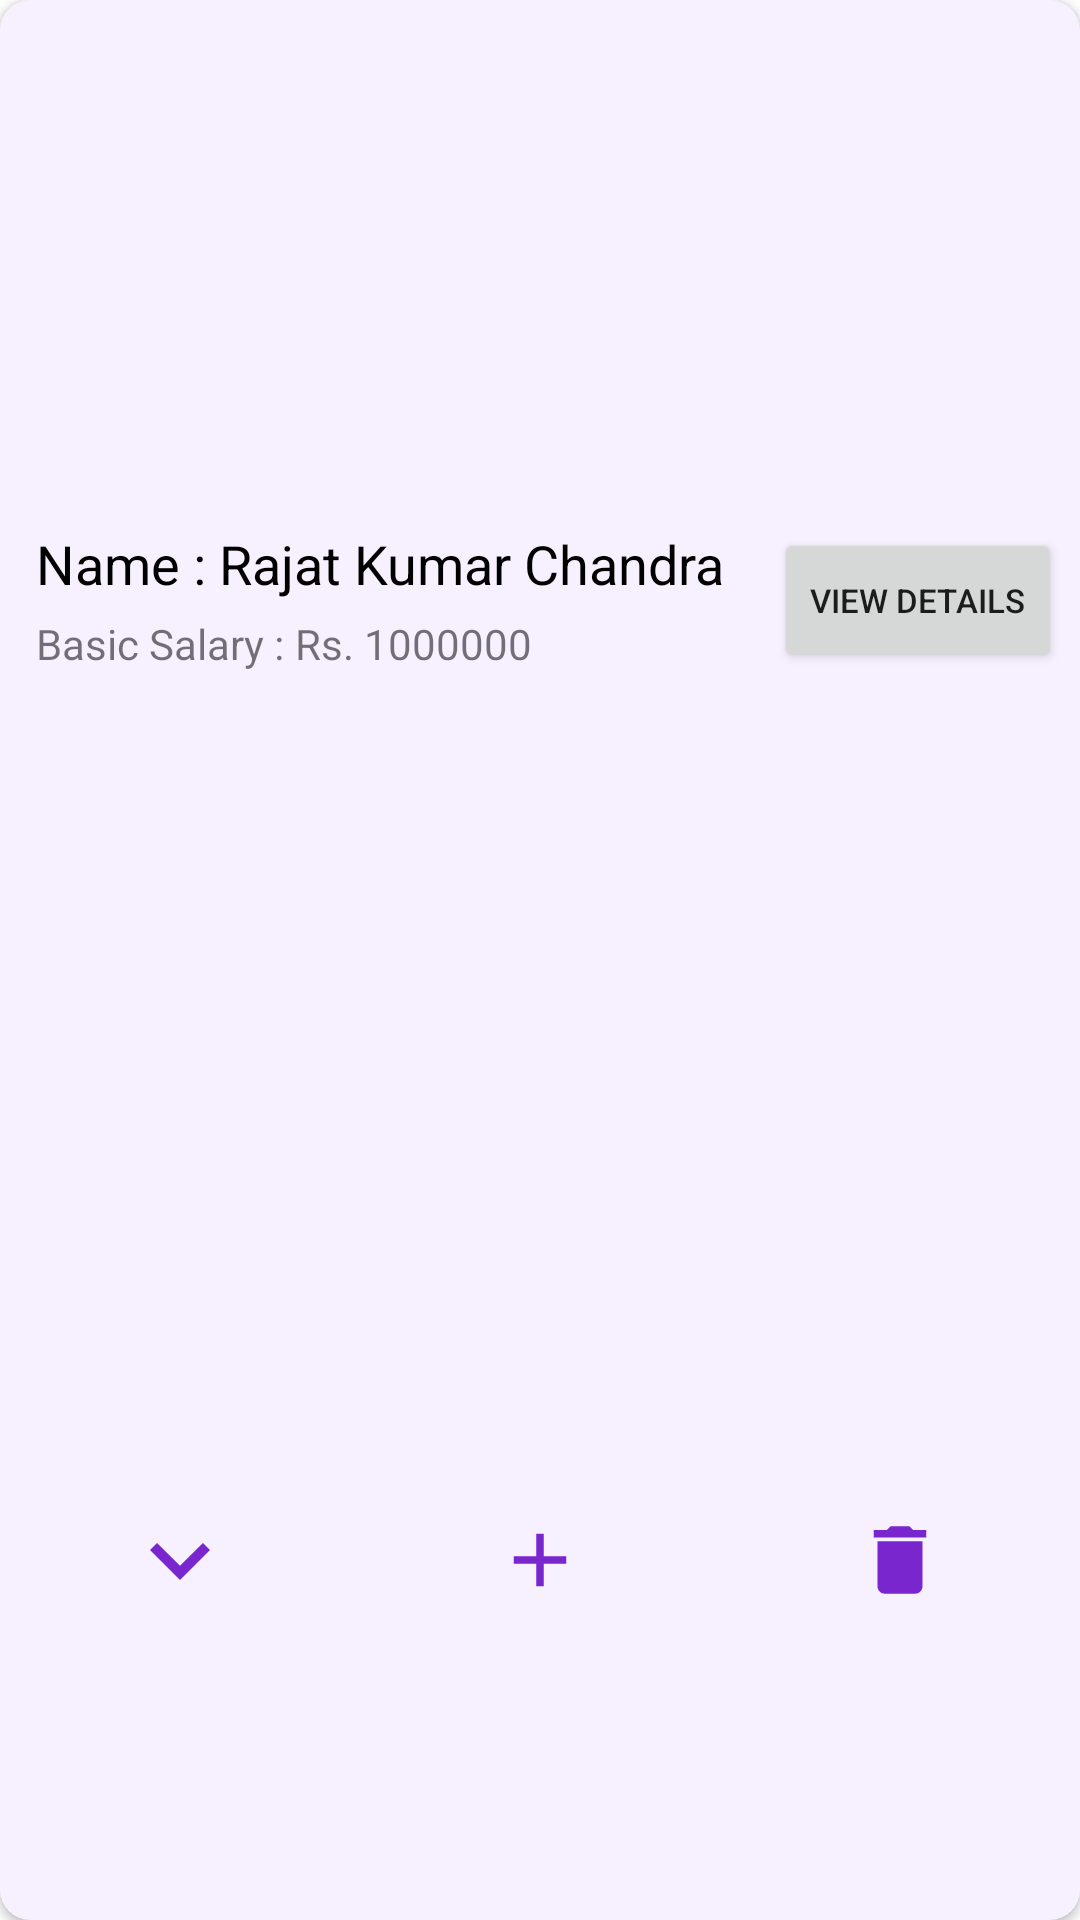

Named icons in this screenshot (1080x1920) and their bounding boxes, (x1, y1, x2, y2):
add: (513, 1533, 567, 1587)
delete: (873, 1526, 927, 1594)
drop: (150, 1543, 210, 1580)
